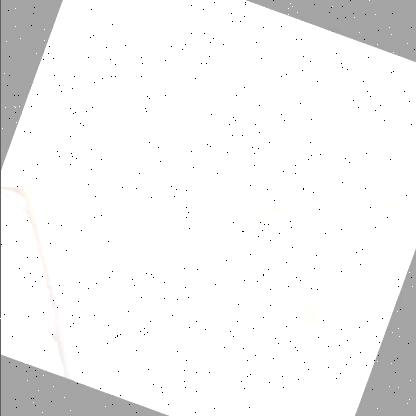Others: (21, 115, 411, 324)
